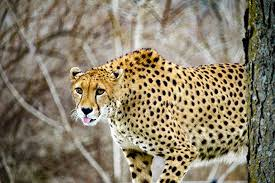amur_leopard: (58, 35, 253, 176)
